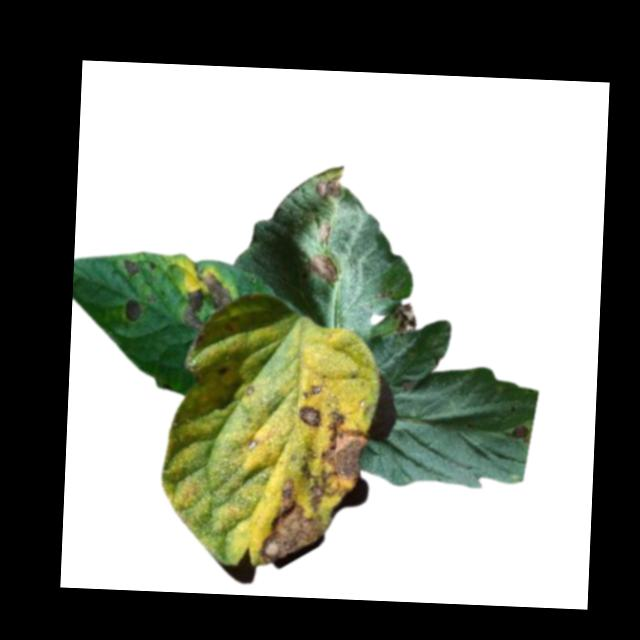Early_blight: (298, 407, 369, 514), (259, 477, 326, 565), (181, 268, 234, 332), (385, 301, 418, 334), (308, 253, 339, 283), (315, 174, 343, 197), (120, 294, 141, 322), (297, 406, 322, 426), (119, 259, 140, 277), (510, 423, 530, 440)
